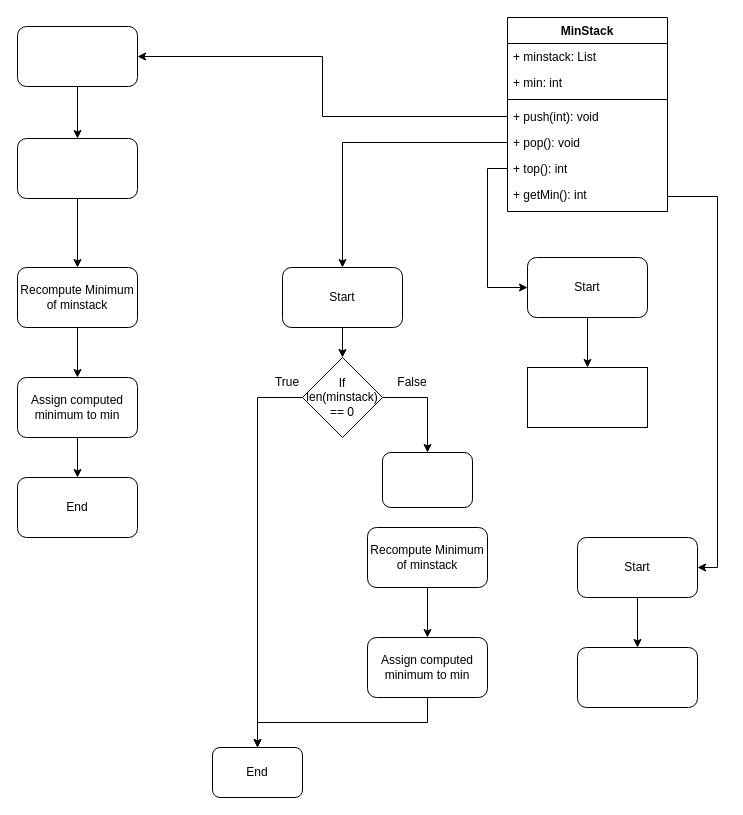
Some shapes in this 743 by 815 pixel diagram are drawn without their labels. Here are the shapes that lost their labels. From the top down, the centre of each, then its label:
[77,56]: Start (receive int from call)
[77,168]: Append to minstack
[587,397]: Return Last element of minstack
[427,480]: Pop Last element of minstack
[637,677]: Return min
